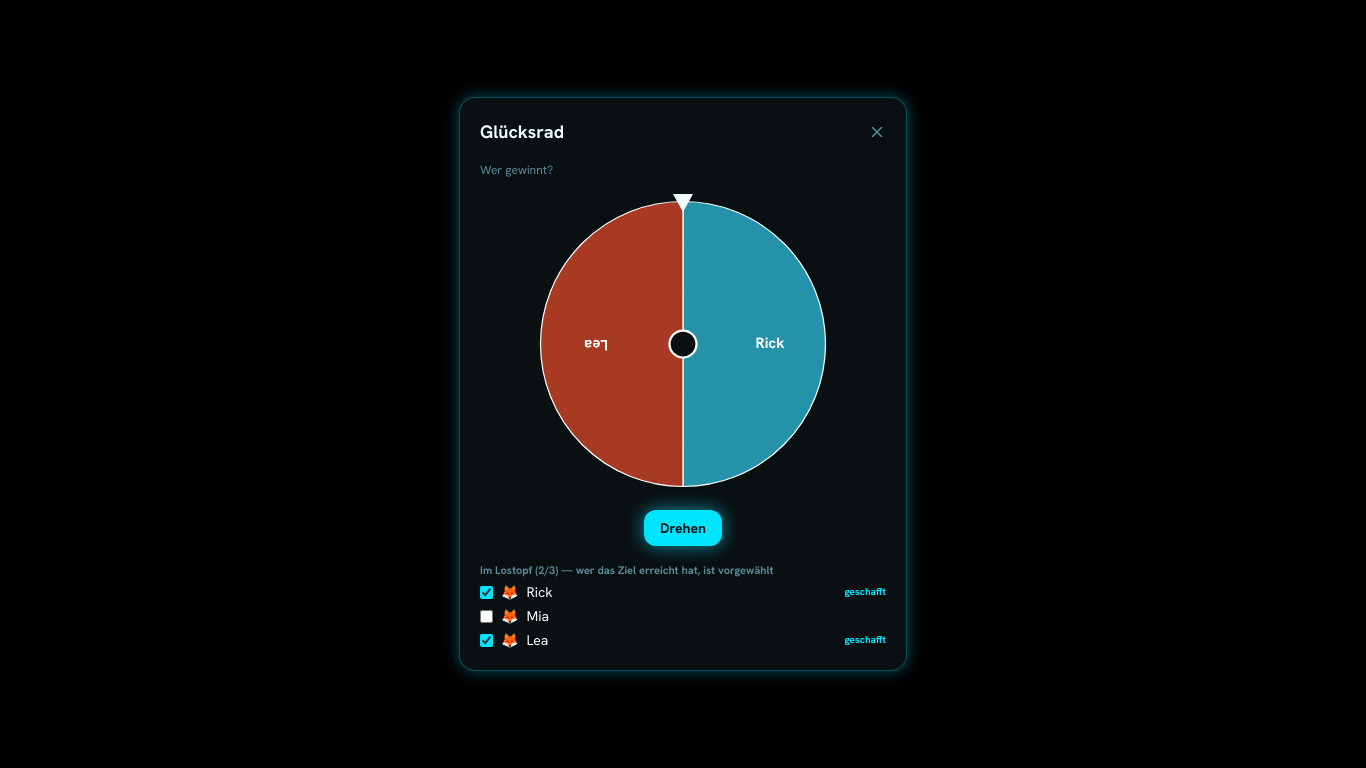
GluecksradDialog › zieht nur aus der Auswahl
The image size is (1366, 768).
Click the checkbox labelled "🦊 Rick geschafft": click(486, 592) [480,586,493,599]
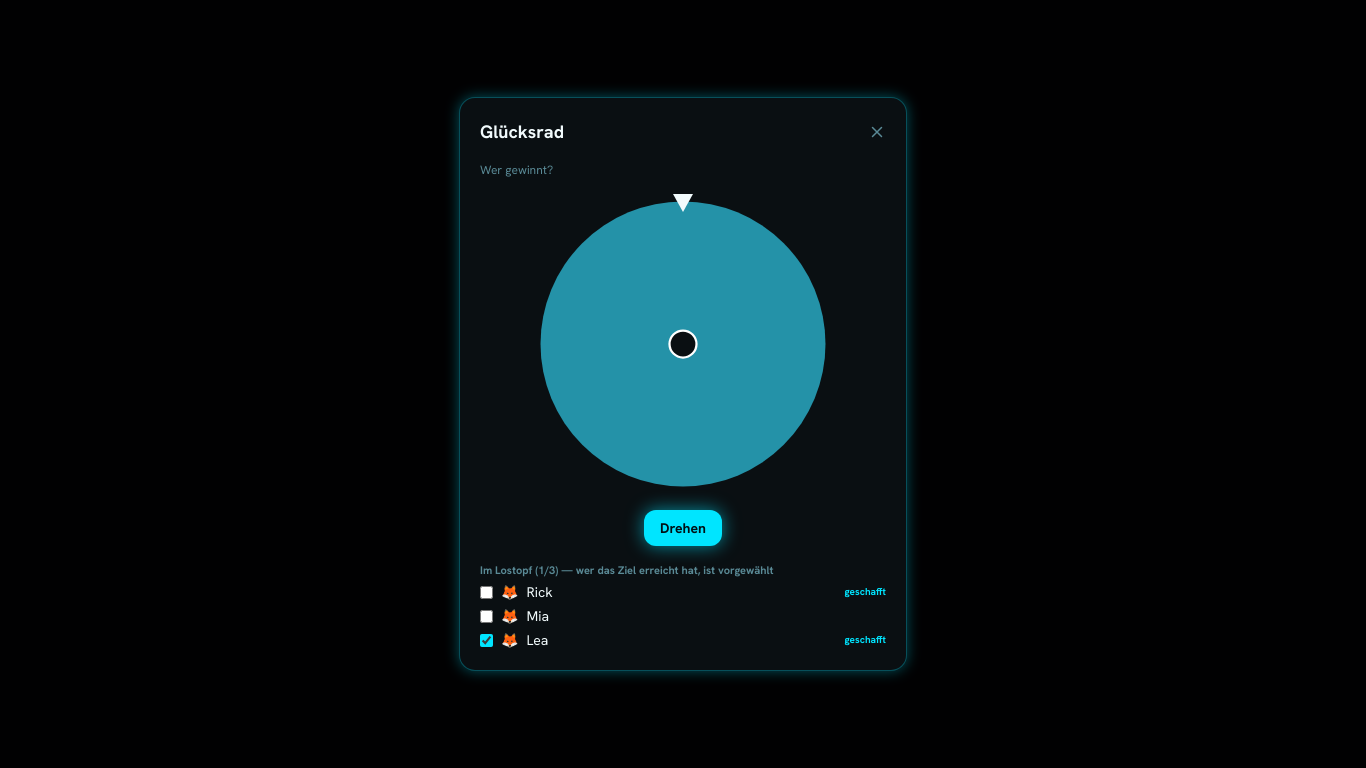
Click the button "Drehen": click(683, 528) [644,510,722,546]
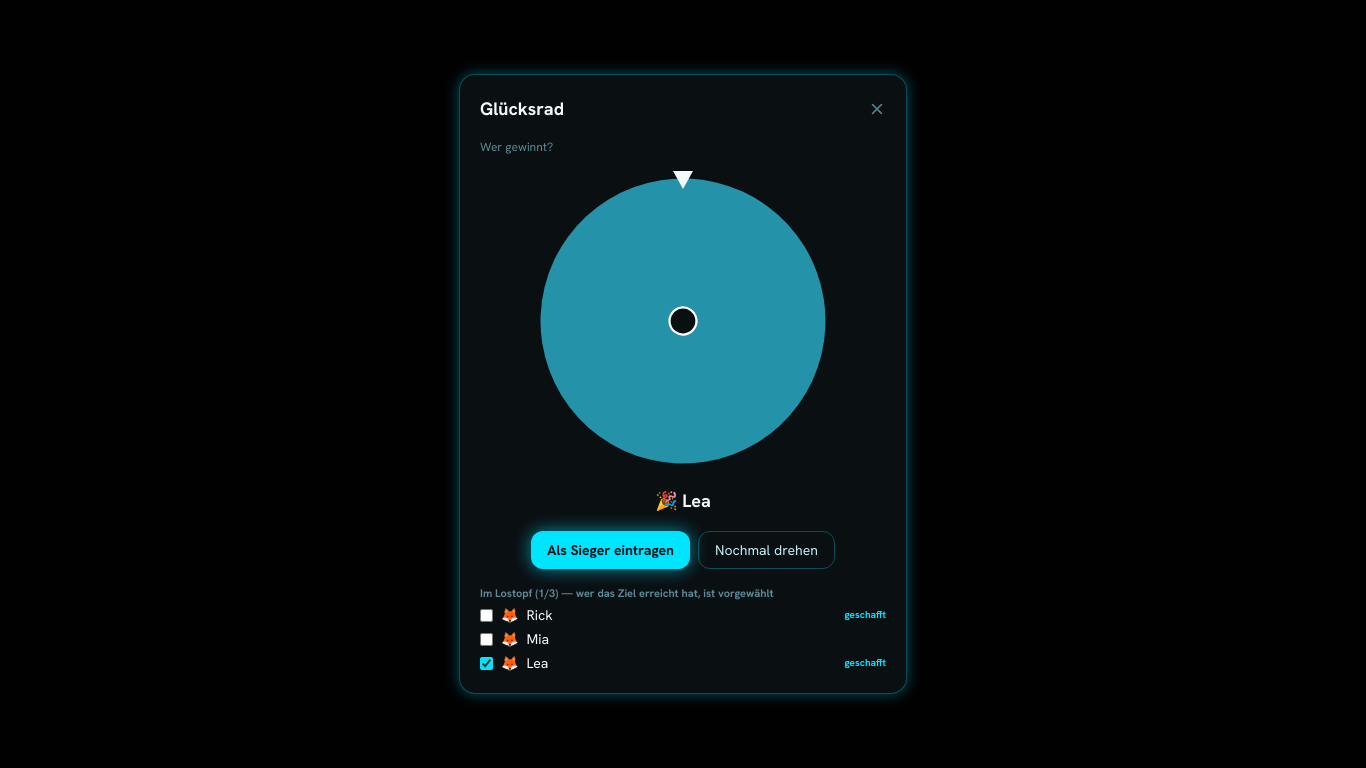
Now the message shows "Lea", box [682,489,711,512]
